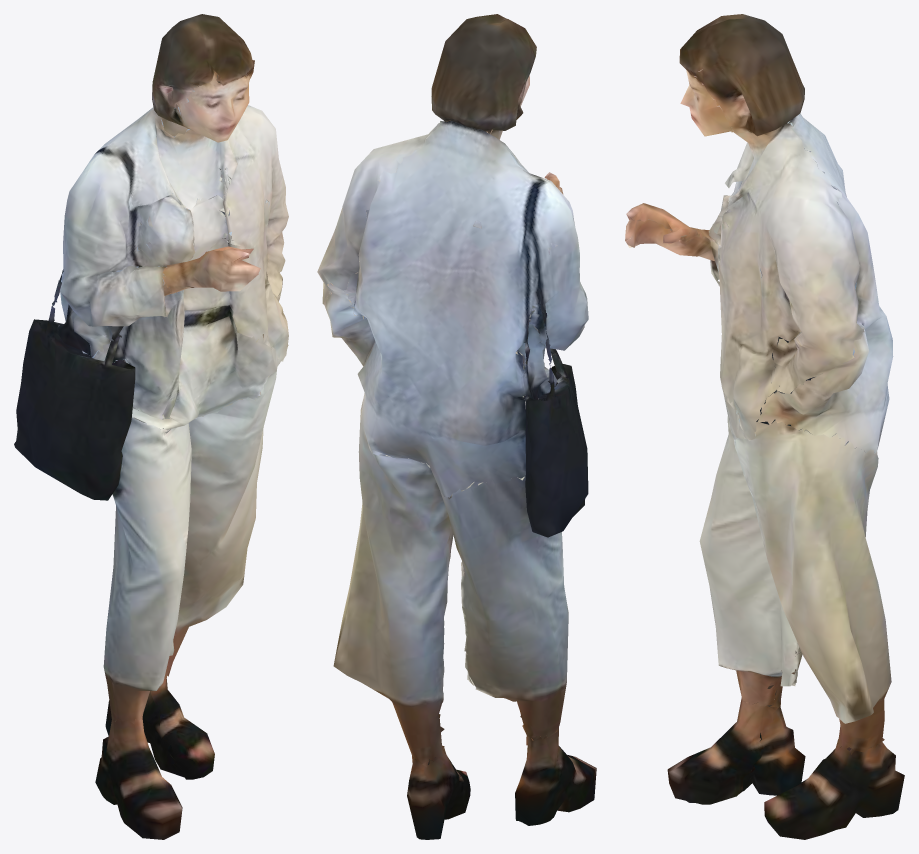
3 views of the same model, side by side, from view 1: azimuth 30°, elevation 25°; view 2: azimuth 150°, elevation 25°; view 3: azimuth 270°, elevation 25° (orthographic). The views are drawn at different scales.
Parts seen in each view (by area): view 1: Object_3.003; view 2: Object_3.003; view 3: Object_3.003.
Boxes of the visible parts, x1,y1,x2,y2 form: Object_3.003: (14,14,288,839); Object_3.003: (317,14,596,839); Object_3.003: (625,14,904,839).
Size of the model in its own units: 0.5746 by 1.71 by 0.5342.
Materials: 1 (1 with a texture image).
